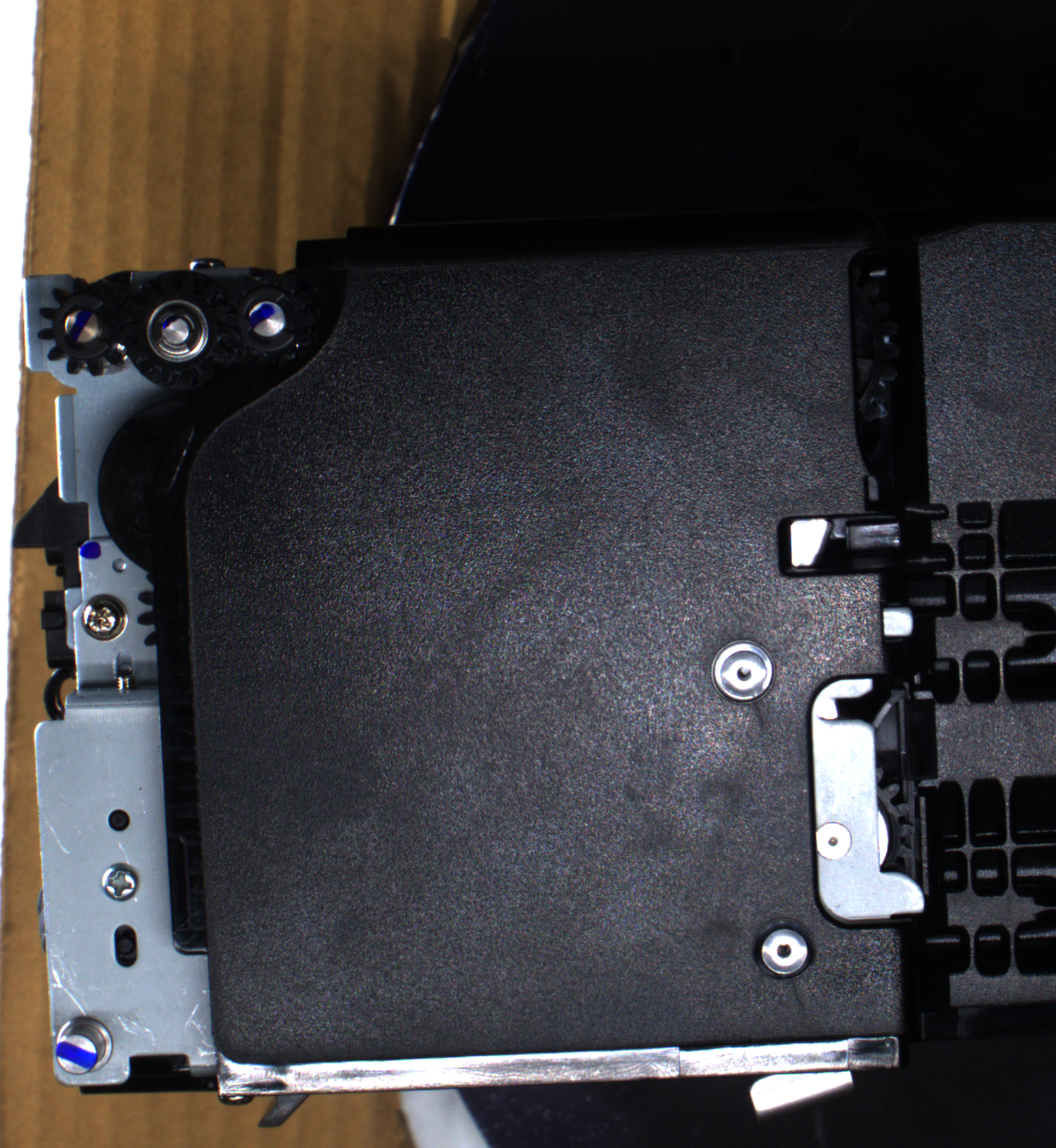centre_pin_presence: (743, 1058, 860, 1122)
centre_plate_presence: (804, 669, 936, 935)
centre_screw_presence: (707, 633, 780, 710), (748, 910, 819, 987)
gear1_presence: (35, 275, 136, 378)
gear2_presence: (120, 269, 234, 390)
gear3_presence: (217, 267, 319, 373)
side_screw_presence: (77, 591, 130, 642), (97, 862, 142, 902)
slanting_pin_presence: (50, 1011, 122, 1084)
